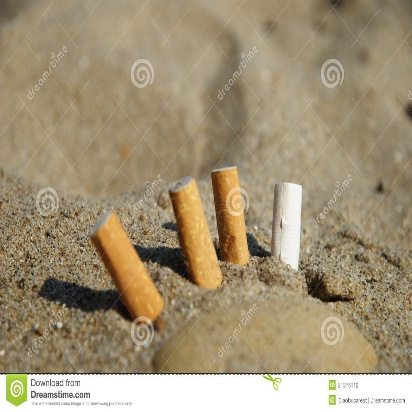cigarette: (82, 208, 167, 326), (165, 175, 229, 296), (210, 165, 250, 269), (272, 176, 303, 280)
